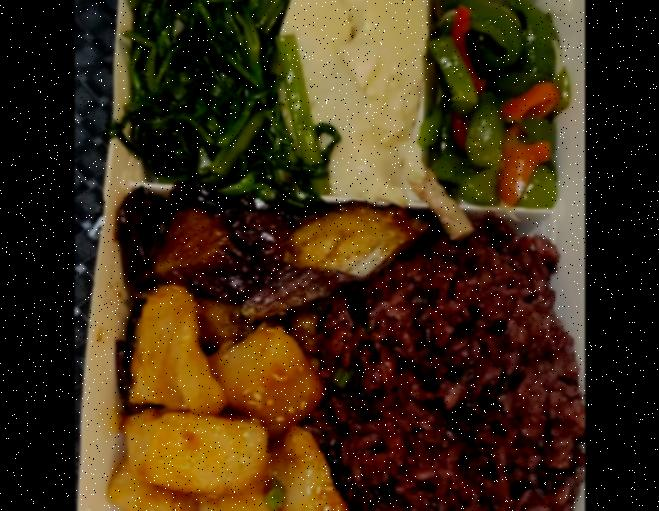big grilled chicken leg: (74, 0, 585, 511)
braised fish: (323, 224, 581, 511)
braised fish fillet: (132, 0, 312, 200), (118, 200, 407, 318), (288, 0, 434, 212), (426, 0, 570, 211)
braised pork: (106, 292, 346, 511)
